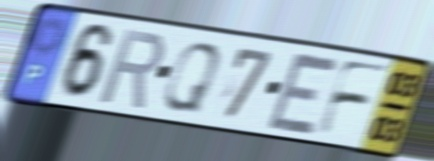6: (53, 21, 121, 103)
7: (221, 46, 273, 121)
E: (263, 48, 344, 138)
F: (311, 56, 394, 139)
Q: (159, 40, 224, 116)
R: (96, 25, 169, 111)
